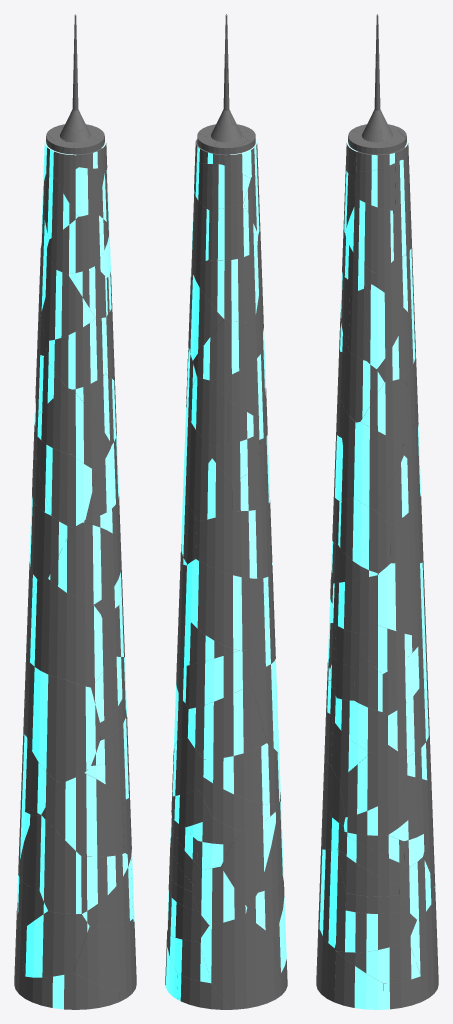
Rendered from habitation_2_destruct.fbx.
3 views of the same model, side by side, from view 1: azimuth 90°, elevation 25°; view 2: azimuth 210°, elevation 25°; view 3: azimuth 270°, elevation 25° (orthographic).
Visible parts, largest first — view 1: Cylinder_cell.031, Cylinder_cell.084, Cylinder_cell.044, Cylinder_cell.085, Cylinder_cell.059, Cylinder_cell.049, Cylinder_cell.043, Cylinder_cell.035, Cylinder_cell.004, Cylinder_cell.024, Cylinder_cell.050, Cylinder_cell.079 (+36 smaller); view 2: Cylinder_cell.029, Cylinder_cell.062, Cylinder_cell.070, Cylinder_cell.042, Cylinder_cell.092, Cylinder_cell.073, Cylinder_cell.082, Cylinder_cell.077, Cylinder_cell.016, Cylinder_cell.011, Cylinder_cell.087, Cylinder_cell.052 (+42 smaller); view 3: Cylinder_cell.097, Cylinder_cell.062, Cylinder_cell.098, Cylinder_cell.060, Cylinder_cell.057, Cylinder_cell.039, Cylinder_cell.052, Cylinder_cell.005, Cylinder_cell.075, Cylinder_cell.053, Cylinder_cell.042, Cylinder_cell.021 (+47 smaller).
Part boxes in pixels (x1=…): Cylinder_cell.031: x1=25, y1=656, x2=99, y2=783; Cylinder_cell.084: x1=41, y1=773, x2=124, y2=856; Cylinder_cell.044: x1=48, y1=522, x2=121, y2=604; Cylinder_cell.085: x1=21, y1=911, x2=89, y2=977; Cylinder_cell.059: x1=26, y1=579, x2=66, y2=679; Cylinder_cell.049: x1=36, y1=437, x2=96, y2=527; Cylinder_cell.043: x1=66, y1=593, x2=112, y2=687; Cylinder_cell.035: x1=39, y1=815, x2=81, y2=913; Cylinder_cell.004: x1=46, y1=317, x2=107, y2=389; Cylinder_cell.024: x1=73, y1=919, x2=133, y2=992; Cylinder_cell.050: x1=18, y1=972, x2=120, y2=1009; Cylinder_cell.079: x1=46, y1=212, x2=109, y2=273; Cylinder_cell.029: x1=199, y1=915, x2=279, y2=1009; Cylinder_cell.062: x1=185, y1=559, x2=268, y2=650; Cylinder_cell.070: x1=196, y1=502, x2=272, y2=578; Cylinder_cell.042: x1=187, y1=685, x2=266, y2=758; Cylinder_cell.092: x1=193, y1=250, x2=261, y2=321; Cylinder_cell.073: x1=203, y1=743, x2=280, y2=804; Cylinder_cell.082: x1=193, y1=319, x2=262, y2=380; Cylinder_cell.077: x1=185, y1=650, x2=255, y2=708; Cylinder_cell.016: x1=221, y1=809, x2=277, y2=906; Cylinder_cell.011: x1=208, y1=203, x2=258, y2=260; Cylinder_cell.087: x1=192, y1=866, x2=247, y2=925; Cylinder_cell.052: x1=186, y1=377, x2=227, y2=446; Cylinder_cell.097: x1=342, y1=421, x2=403, y2=508; Cylinder_cell.062: x1=377, y1=561, x2=425, y2=636; Cylinder_cell.098: x1=339, y1=745, x2=407, y2=817; Cylinder_cell.060: x1=338, y1=497, x2=390, y2=573; Cylinder_cell.057: x1=334, y1=910, x2=416, y2=952; Cylinder_cell.039: x1=345, y1=199, x2=393, y2=272; Cylinder_cell.052: x1=360, y1=379, x2=413, y2=443; Cylinder_cell.005: x1=332, y1=575, x2=377, y2=633; Cylinder_cell.075: x1=367, y1=284, x2=407, y2=368; Cylinder_cell.053: x1=338, y1=351, x2=384, y2=422; Cylinder_cell.042: x1=387, y1=667, x2=429, y2=756; Cylinder_cell.021: x1=318, y1=849, x2=345, y2=947.
Bounding box in the file's own units: 200 × 1745 × 200.
